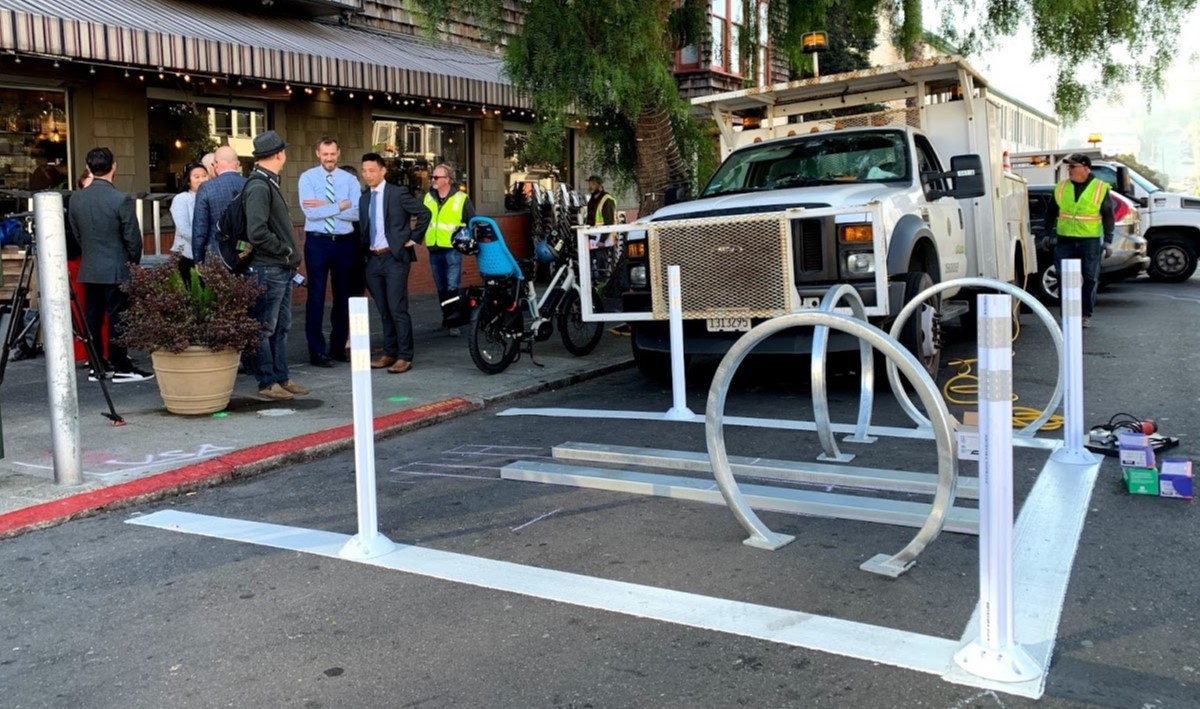Person: (346, 159, 445, 374), (233, 130, 308, 398), (61, 156, 140, 381), (297, 133, 358, 373), (419, 163, 468, 339)
